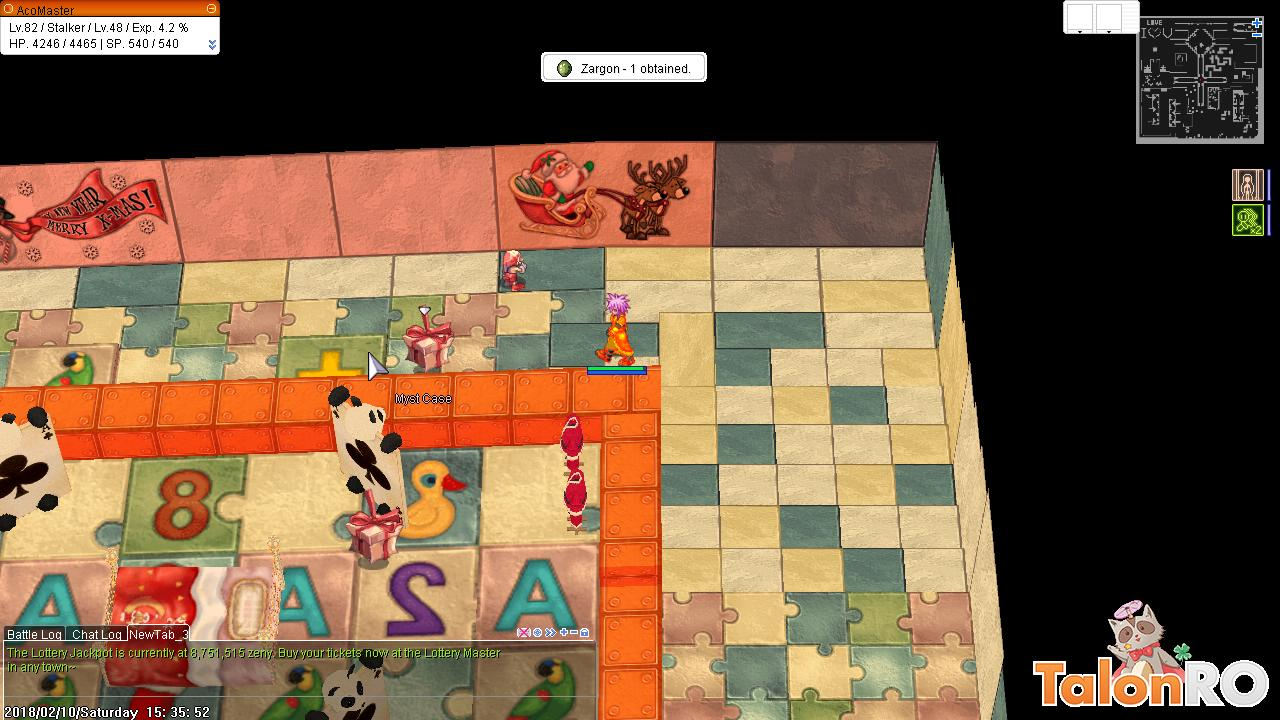myst_case: (342, 480, 404, 572), (401, 311, 458, 376)
